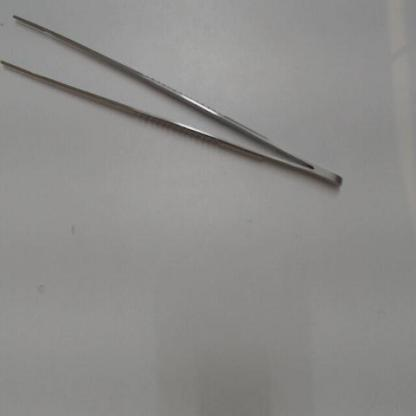DeBakey Dissector: (2, 6, 356, 214)
